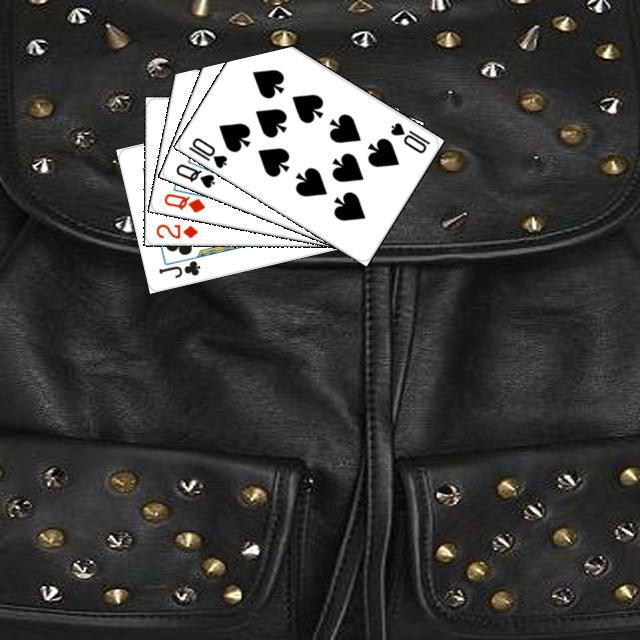10s: (183, 132, 229, 170), (385, 117, 431, 155)
2d: (151, 219, 200, 240)
Jc: (154, 255, 202, 280)
Qd: (159, 188, 207, 214)
Qs: (171, 159, 217, 190)
